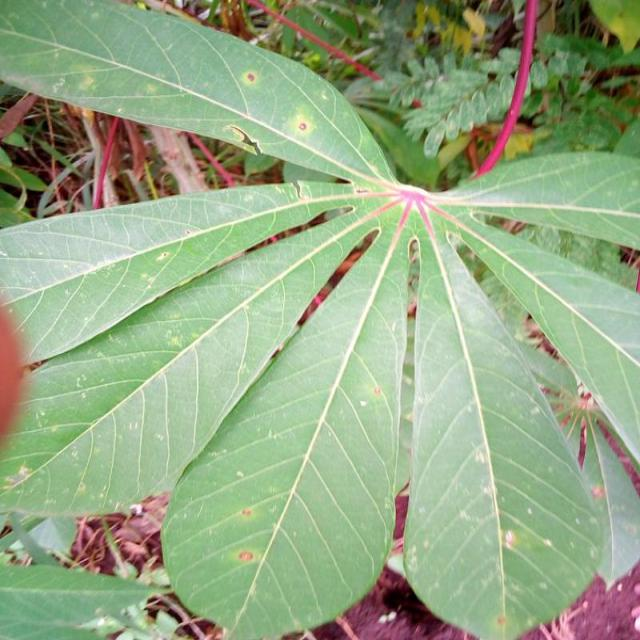cassava leaf: (0, 0, 638, 638), (159, 205, 410, 638), (402, 198, 608, 638), (0, 0, 399, 191)
